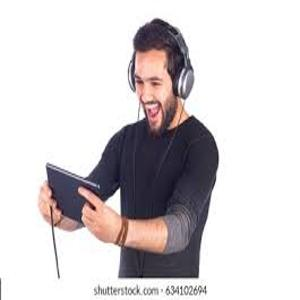Headphones: (126, 26, 195, 100)
